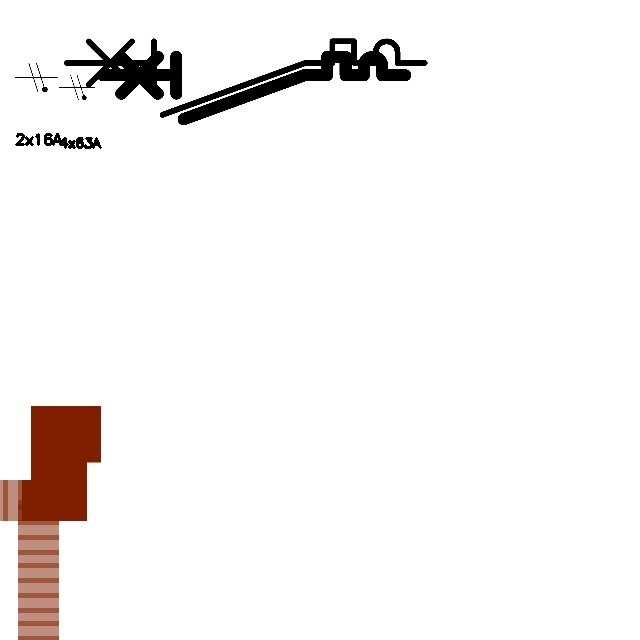interruptor_termomagnetico: (57, 32, 433, 124), (94, 49, 412, 126)
